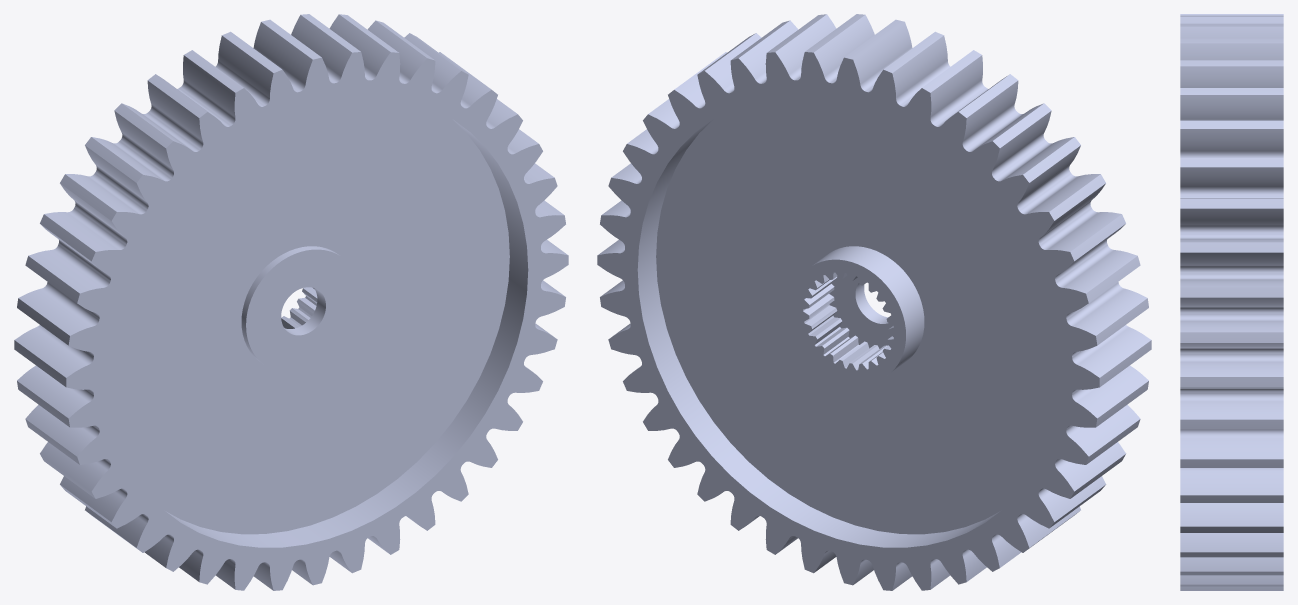
The model's file is _2305_0025_0040_STEP_1_.obj.
The picture shows the model from 3 angles, left to right: view 1: azimuth 30°, elevation 25°; view 2: azimuth 150°, elevation 25°; view 3: azimuth 270°, elevation 25°; orthographic projection.
Parts seen in each view (by area): view 1: mesh2428, mesh2539, mesh2430, mesh2425, mesh2429, mesh2669, mesh2820, mesh2729, mesh2585, mesh2698, mesh2735, mesh2670 (+14 smaller); view 2: mesh2535, mesh2538, mesh2537, mesh2532, mesh2534, mesh2422, mesh2536, mesh2669, mesh2820, mesh2729, mesh2585, mesh2698 (+15 smaller); view 3: mesh2620, mesh2782, mesh2813, mesh2580, mesh2591, mesh2614, mesh2776, mesh2807, mesh2788, mesh2814, mesh2597, mesh2608 (+54 smaller).
Boxes of the visible parts, box(x1,y1,x2,y2) form: mesh2428: box(106, 95, 509, 534); mesh2539: box(66, 52, 568, 590); mesh2430: box(165, 257, 528, 547); mesh2425: box(246, 249, 360, 372); mesh2429: box(453, 119, 528, 269); mesh2669: box(17, 365, 88, 418); mesh2820: box(254, 22, 312, 83); mesh2729: box(15, 327, 87, 377); mesh2585: box(291, 15, 351, 76); mesh2698: box(218, 35, 273, 97); mesh2735: box(25, 404, 95, 456); mesh2670: box(18, 288, 92, 335); mesh2535: box(656, 95, 1059, 534); mesh2538: box(597, 52, 1099, 590); mesh2537: box(637, 257, 1000, 547); mesh2532: box(791, 259, 905, 383); mesh2534: box(812, 246, 924, 335); mesh2422: box(829, 275, 893, 348); mesh2536: box(637, 119, 712, 269); mesh2669: box(1077, 365, 1148, 418); mesh2820: box(853, 22, 911, 83); mesh2729: box(1078, 327, 1150, 377); mesh2585: box(814, 15, 874, 76); mesh2698: box(892, 35, 947, 97); mesh2620: box(1180, 503, 1283, 526); mesh2782: box(1180, 472, 1283, 495); mesh2813: box(1180, 95, 1283, 118); mesh2580: box(1180, 66, 1283, 87); mesh2591: box(1180, 129, 1283, 150); mesh2614: box(1180, 438, 1283, 459); mesh2776: box(1180, 533, 1283, 552); mesh2807: box(1180, 167, 1283, 186); mesh2788: box(1180, 401, 1283, 419); mesh2814: box(1180, 43, 1283, 60); mesh2597: box(1180, 208, 1283, 224); mesh2608: box(1180, 362, 1283, 376).
Bounding box in the file's own units: 0.0336 × 0.0336 × 0.006.
